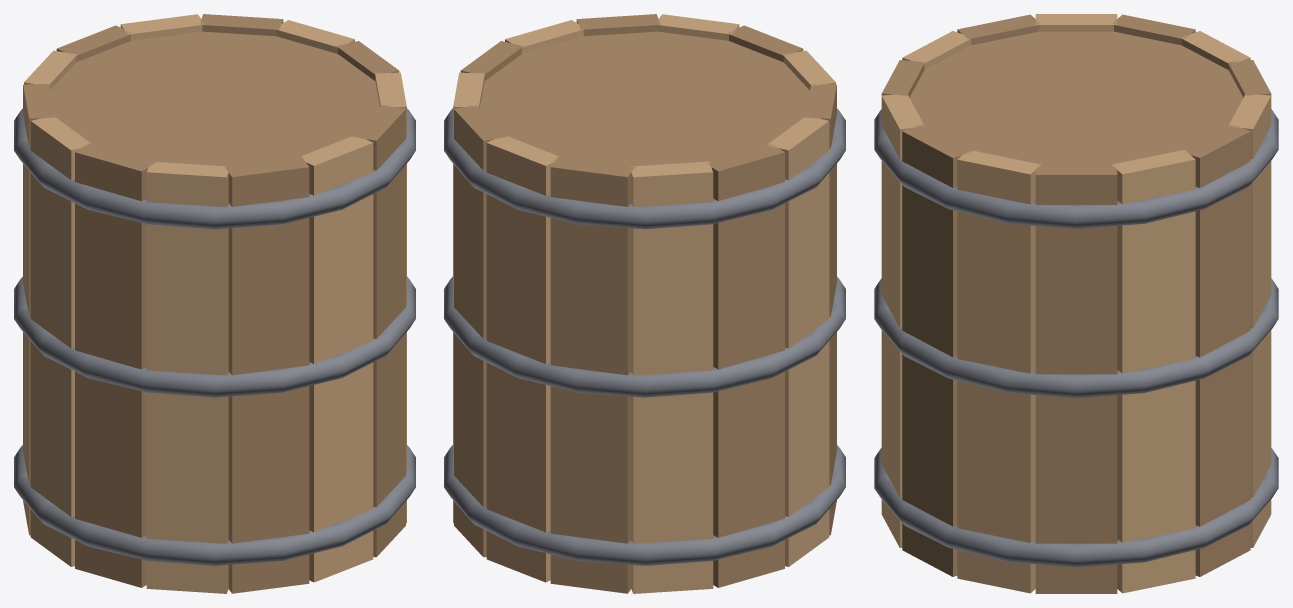
The model's file is kit__barrel.fbx.
3 views of the same model, side by side, from view 1: azimuth 30°, elevation 25°; view 2: azimuth 150°, elevation 25°; view 3: azimuth 270°, elevation 25° (orthographic).
Visible parts, largest first — view 1: kit__barrel; view 2: kit__barrel; view 3: kit__barrel.
Part boxes in pixels (x1,y1,x2,y2): kit__barrel: (14, 14, 415, 593); kit__barrel: (444, 14, 845, 593); kit__barrel: (874, 14, 1278, 593).
Size of the model in its own units: 1.11 by 1.25 by 1.09.
